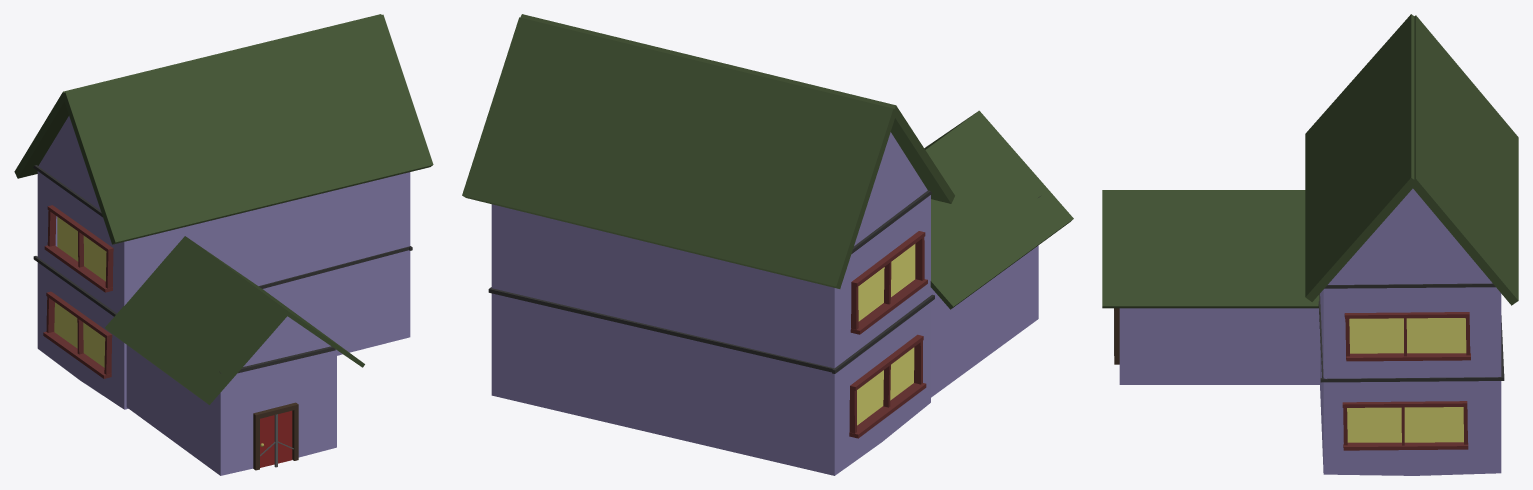
File: House2.fbx
3 renders of one model, left to right at view 1: azimuth 30°, elevation 25°; view 2: azimuth 150°, elevation 25°; view 3: azimuth 270°, elevation 25°, orthographic. The views are drawn at different scales.
Parts seen in each view (by area): view 1: Cube.005, Cube.001, Cube, Cube.002, Cube.004, Cube.009, Cube.043, Cube.042, Cube.003, Cube.032, Cube.020, Cube.012 (+4 smaller); view 2: Cube.001, Cube.004, Cube.002, Cube, Cube.005, Cube.015, Cube.043, Cube.042, Cube.020, Cube.032, Cube.031, Cube.019 (+1 smaller); view 3: Cube.001, Cube.003, Cube.005, Cube.004, Cube, Cube.040, Cube.041, Cube.024, Cube.028, Cube.014, Cube.023, Cube.027 (+1 smaller).
Part boxes in pixels (<box>): Cube.005: <box>62,14,433,244</box>; Cube.001: <box>37,116,410,409</box>; Cube: <box>126,316,336,475</box>; Cube.002: <box>105,236,289,404</box>; Cube.004: <box>14,14,381,178</box>; Cube.009: <box>260,410,292,467</box>; Cube.043: <box>54,302,105,367</box>; Cube.042: <box>57,217,106,281</box>; Cube.003: <box>185,236,364,367</box>; Cube.032: <box>44,245,112,292</box>; Cube.020: <box>43,331,111,378</box>; Cube.012: <box>259,246,410,288</box>; Cube.001: <box>491,132,930,475</box>; Cube.004: <box>462,17,896,288</box>; Cube.002: <box>925,111,1073,309</box>; Cube: <box>931,245,1038,397</box>; Cube.005: <box>520,14,954,203</box>; Cube.015: <box>489,288,833,372</box>; Cube.043: <box>857,347,914,425</box>; Cube.042: <box>858,244,915,321</box>; Cube.020: <box>849,383,926,438</box>; Cube.032: <box>850,279,927,334</box>; Cube.031: <box>851,231,925,286</box>; Cube.019: <box>850,334,923,390</box>; Cube.001: <box>1320,188,1501,475</box>; Cube.003: <box>1102,190,1319,308</box>; Cube.005: <box>1305,14,1415,301</box>; Cube.004: <box>1409,15,1518,305</box>; Cube: <box>1119,308,1319,384</box>; Cube.040: <box>1347,407,1463,442</box>; Cube.041: <box>1349,318,1466,353</box>; Cube.024: <box>1343,442,1468,450</box>; Cube.028: <box>1346,353,1470,361</box>; Cube.014: <box>1320,376,1504,382</box>; Cube.023: <box>1342,401,1467,407</box>; Cube.027: <box>1344,312,1469,318</box>.
Size of the model in its own units: 1422 by 1224 by 1506.
